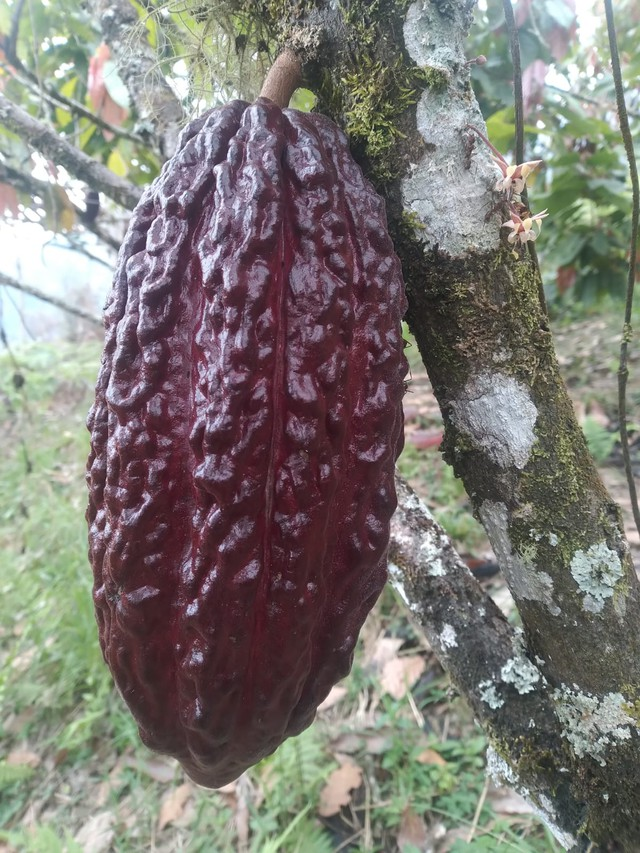Health: (71, 93, 415, 801)
